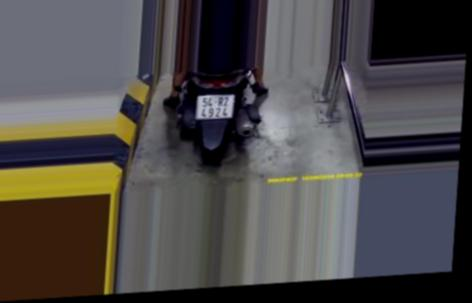License_Plate: (193, 89, 239, 126)
